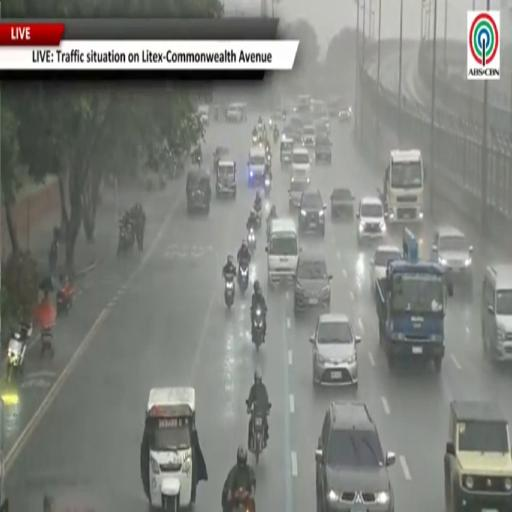car: (315, 402, 395, 511), (444, 400, 511, 511), (310, 313, 360, 386), (481, 264, 511, 361), (432, 227, 473, 293), (294, 252, 332, 313), (370, 246, 402, 291), (357, 197, 386, 244), (298, 190, 326, 236), (186, 169, 211, 214), (288, 176, 309, 210), (292, 147, 311, 177), (315, 135, 332, 163), (226, 103, 247, 122), (302, 125, 316, 150), (317, 116, 330, 134), (198, 105, 209, 126), (339, 106, 352, 122)
motorcycle: (248, 404, 271, 465), (7, 332, 26, 381), (57, 282, 74, 315), (231, 488, 254, 511), (117, 224, 134, 255), (252, 308, 264, 350), (40, 328, 54, 358), (225, 276, 235, 308), (239, 262, 248, 294), (19, 321, 33, 340), (248, 229, 256, 253), (264, 175, 271, 197), (255, 210, 261, 229), (265, 141, 271, 155), (273, 130, 279, 143), (257, 122, 263, 132), (252, 135, 257, 145), (282, 112, 286, 121)
truck: (376, 228, 452, 372), (378, 150, 425, 225), (0, 398, 8, 511), (331, 188, 354, 220)
